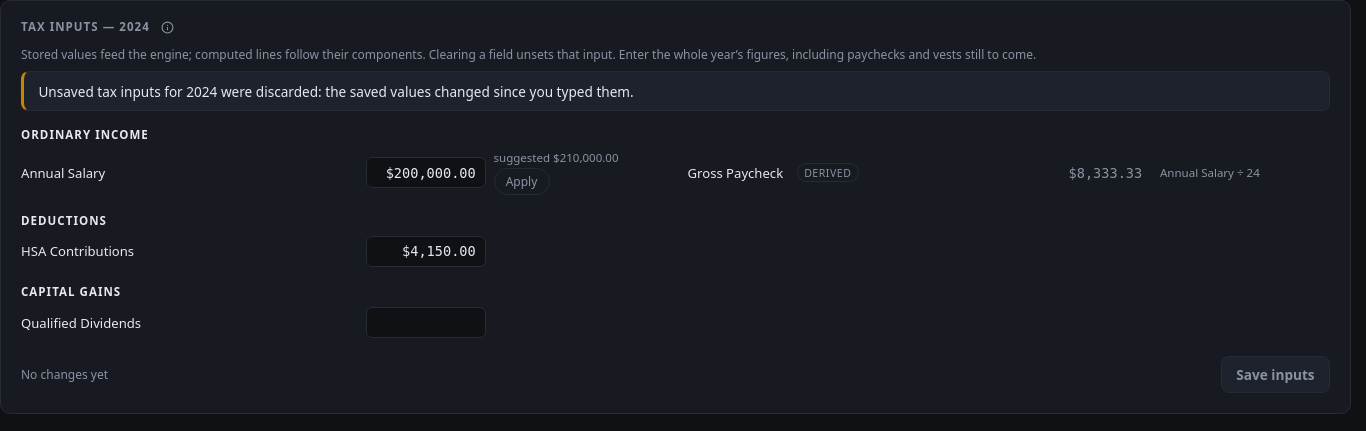
Test: InputsForm — unsaved work survives (2026-09-23 spec §W9) › lets the discarded-draft note go once the user types again (code-quality nit)
Check: the text "Unsaved tax inputs for 2024 were discarded" is shown, box [21,71,1330,111]
Step 1. Replace the text in the field labelled "HSA Contributions" with "4200" → [426, 251], box [366,236,486,267]
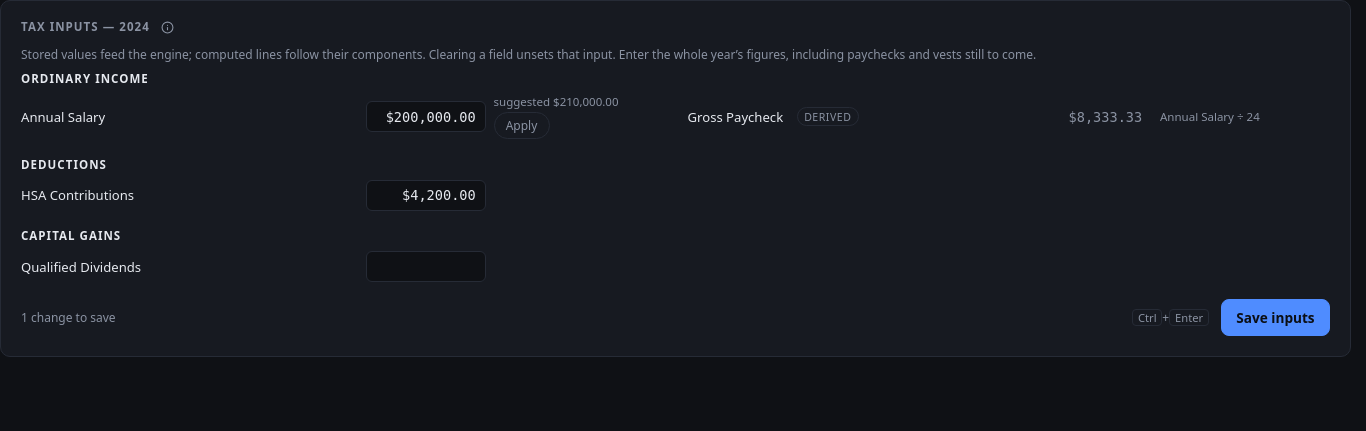
Check: the text "were discarded: the saved values changed" is gone
